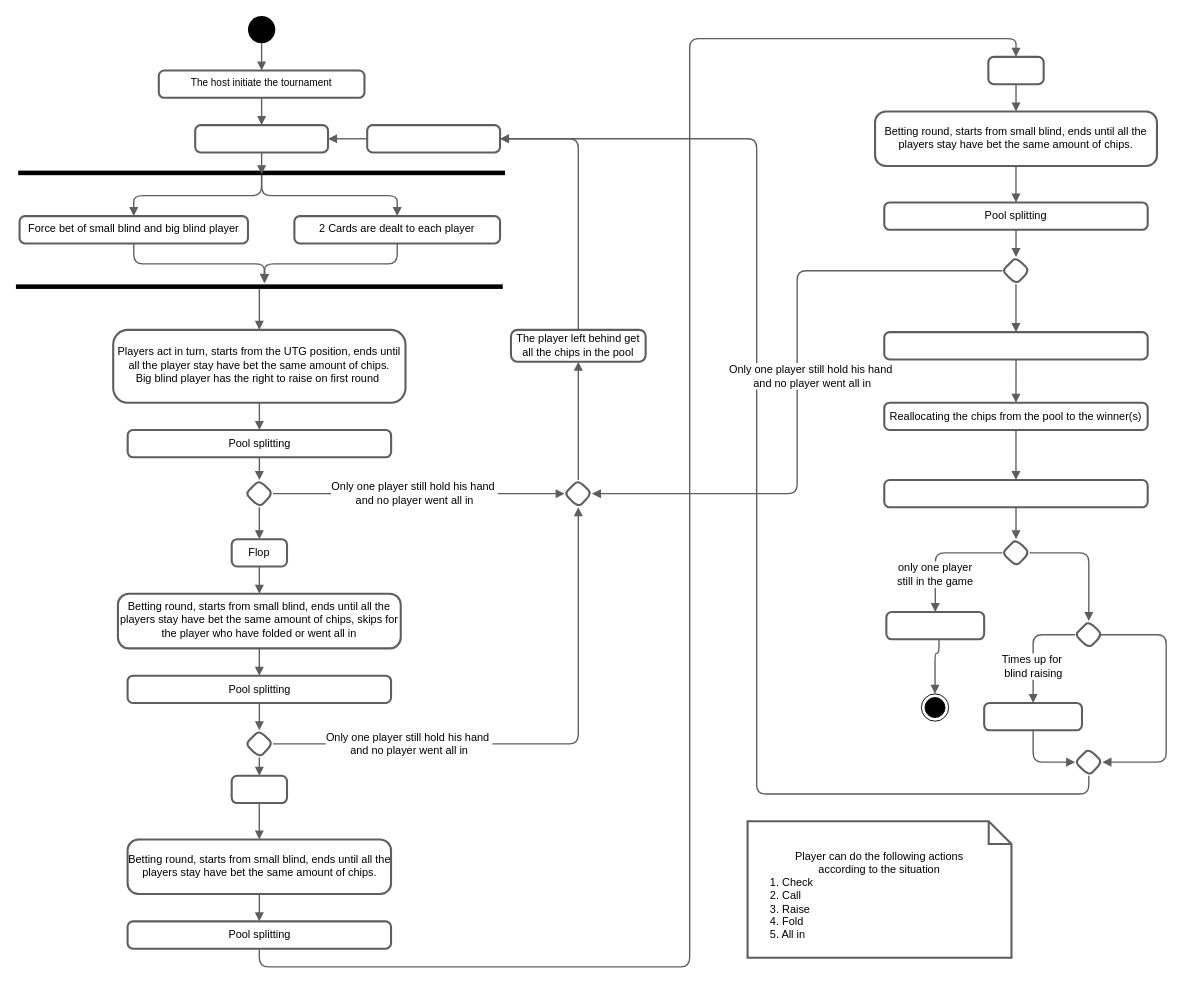
Image size: 1189x990. Some labels were removed from this diagram. Each missing label, with the centre of its shape:
Blind raising: (1033,716)
Eliminate the player who does not have any chips: (1015,493)
End game: (935,625)
Reset the game: (433,138)
River: (1015,70)
Show hand: (1015,345)
Shuffle the deck: (261,138)
Turn: (259,789)
